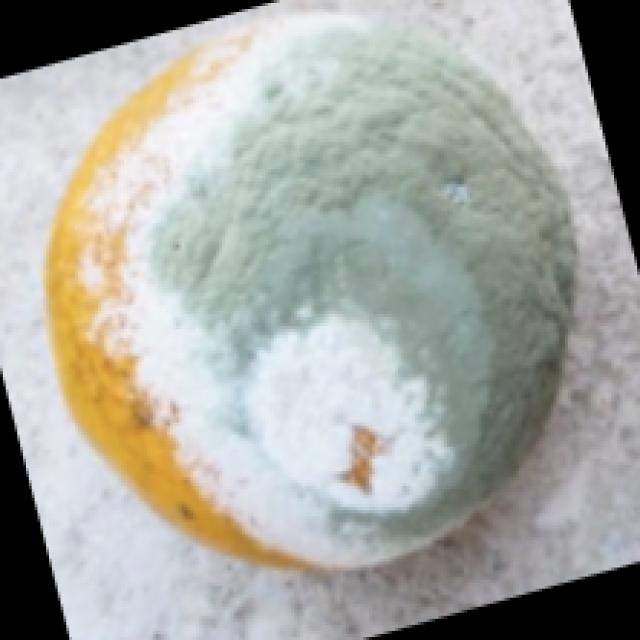sangat_busuk: (48, 13, 574, 577)
